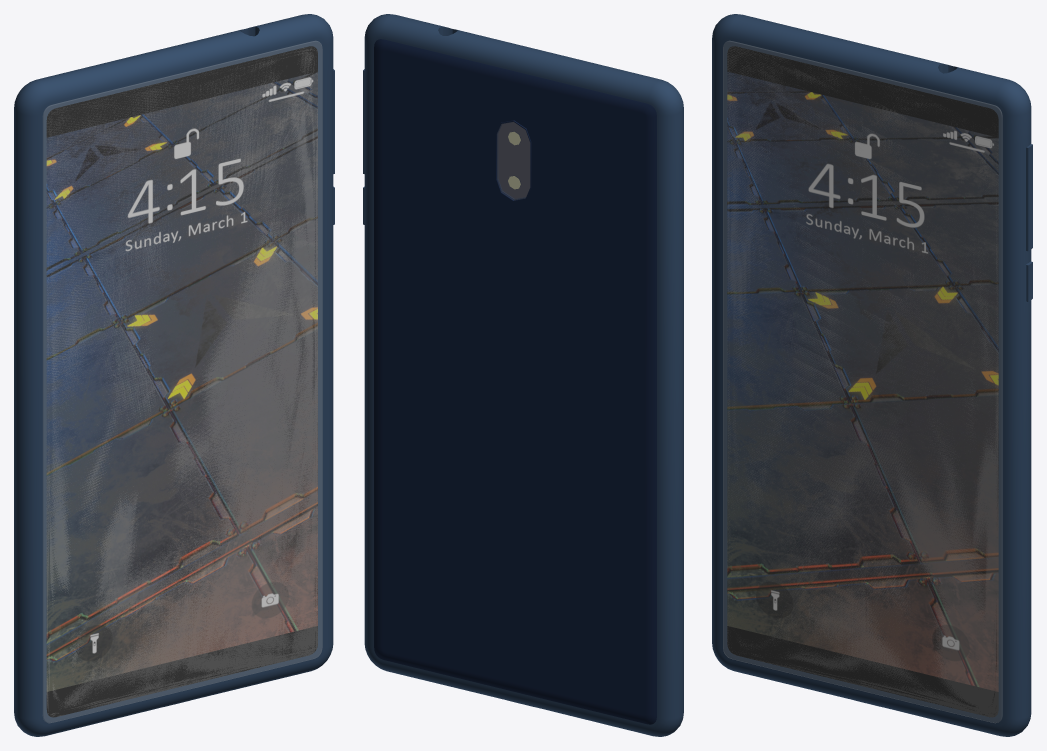
3 views of the same model, side by side, from view 1: azimuth 30°, elevation 25°; view 2: azimuth 150°, elevation 25°; view 3: azimuth 330°, elevation 25° (orthographic).
Visible parts, largest first — view 1: screen glass, screen itself., frame.; view 2: backcap., frame., cam glass ini, camera glass; view 3: screen glass, screen itself., frame., knobes.
Boxes of the visible parts, x1,y1,x2,y2 form: screen glass: [43, 41, 322, 722]; screen itself.: [46, 46, 317, 717]; frame.: [14, 14, 333, 736]; backcap.: [374, 39, 656, 724]; frame.: [364, 14, 683, 736]; cam glass ini: [497, 122, 529, 199]; camera glass: [498, 122, 530, 198]; screen glass: [723, 41, 1002, 722]; screen itself.: [727, 46, 998, 717]; frame.: [712, 14, 1031, 736]; knobes: [1026, 144, 1032, 301].
Bounding box in the file's own units: 0.0734 × 0.145 × 0.00806.
7 materials, 1 textured.
